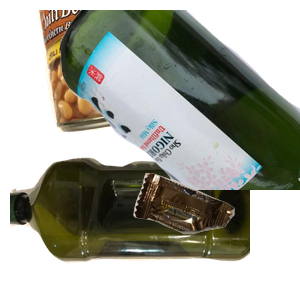glass: (60, 10, 300, 190)
metal: (34, 10, 213, 135)
plastic: (10, 149, 250, 300)
trash: (131, 171, 300, 300)
